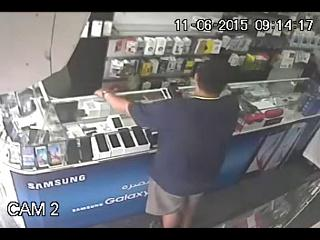Normal: (95, 59, 242, 226)
